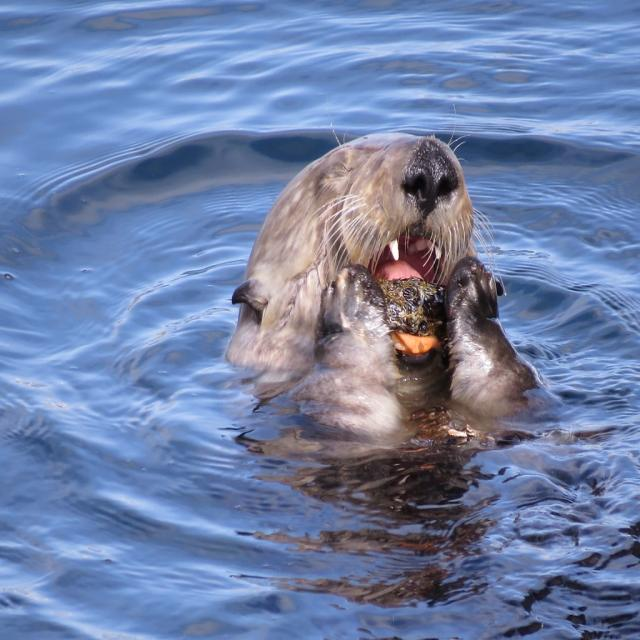otter: (229, 129, 541, 400)
